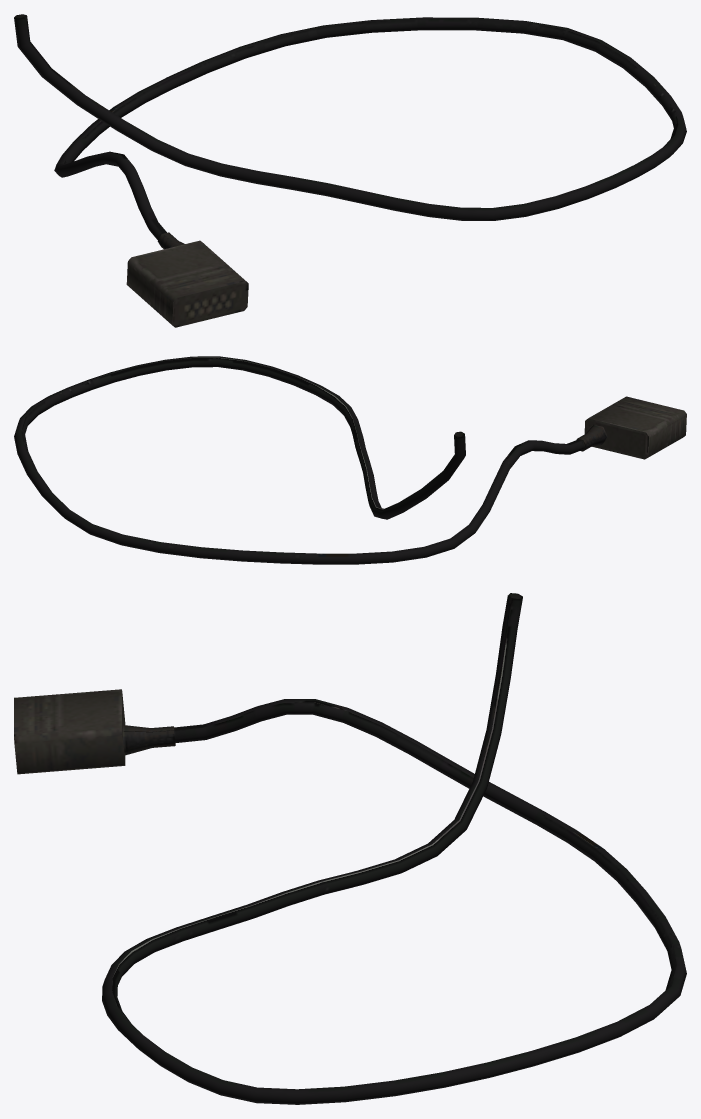
Rendered from SM_Retro_Tech_Set_01f.gltf.
3 views of the same model, one above another, from view 1: azimuth 30°, elevation 25°; view 2: azimuth 150°, elevation 25°; view 3: azimuth 270°, elevation 25° (orthographic). The views are drawn at different scales.
Parts seen in each view (by area): view 1: SM_Retro_Tech_Set_01f; view 2: SM_Retro_Tech_Set_01f; view 3: SM_Retro_Tech_Set_01f.
Part boxes in pixels (<box>): SM_Retro_Tech_Set_01f: <box>14,14,686,327</box>; SM_Retro_Tech_Set_01f: <box>14,356,686,564</box>; SM_Retro_Tech_Set_01f: <box>14,593,686,1104</box>.
Size of the model in its own units: 0.2927 by 0.0732 by 0.2318.
Materials: 1 (1 with a texture image).
